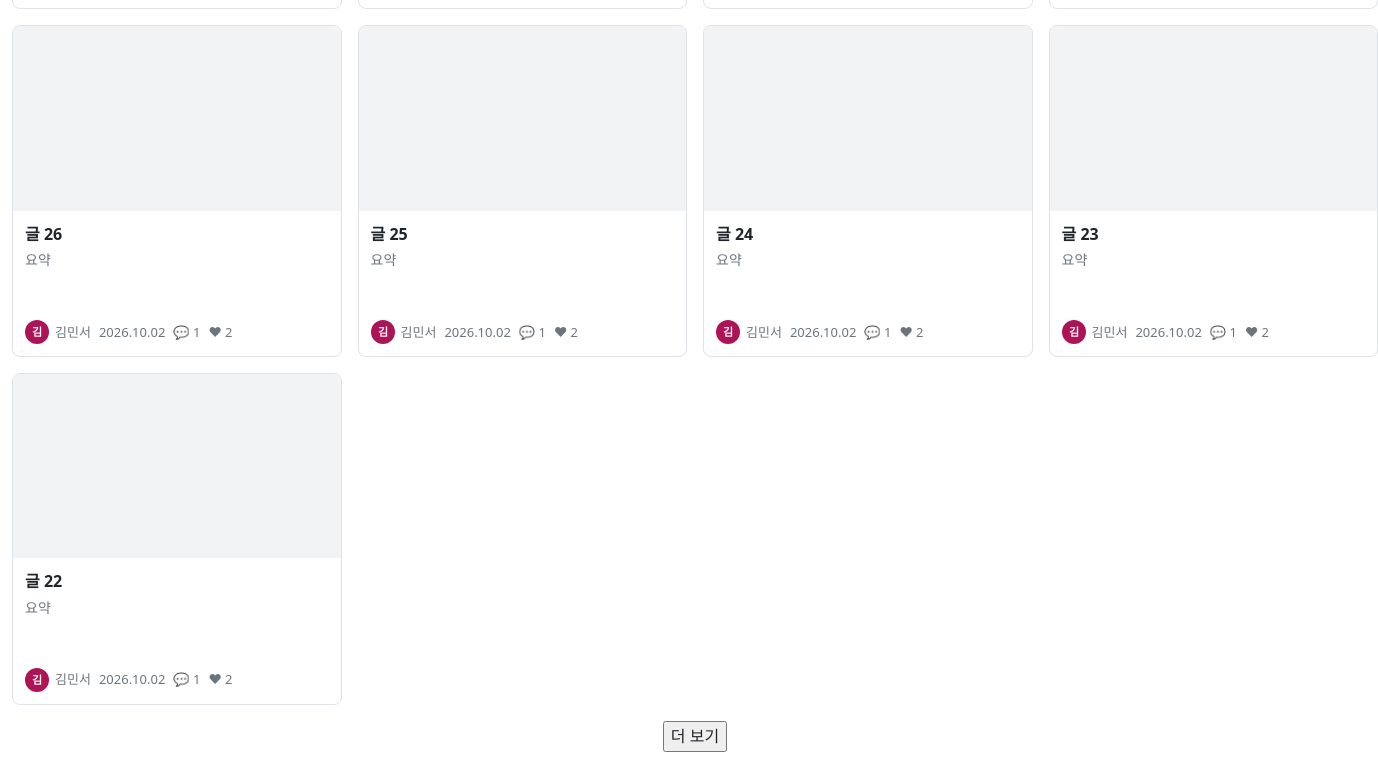
it: TrendingList › [더 보기]가 410이면 "순위가 새로 바뀌었어요" 후 처음부터 다시 부른다
This screenshot has width=1378, height=768.
(page scrolled)
Click the button "더 보기" at (695, 736), box top-left (663, 721), bottom-right (727, 752)
(page scrolled)
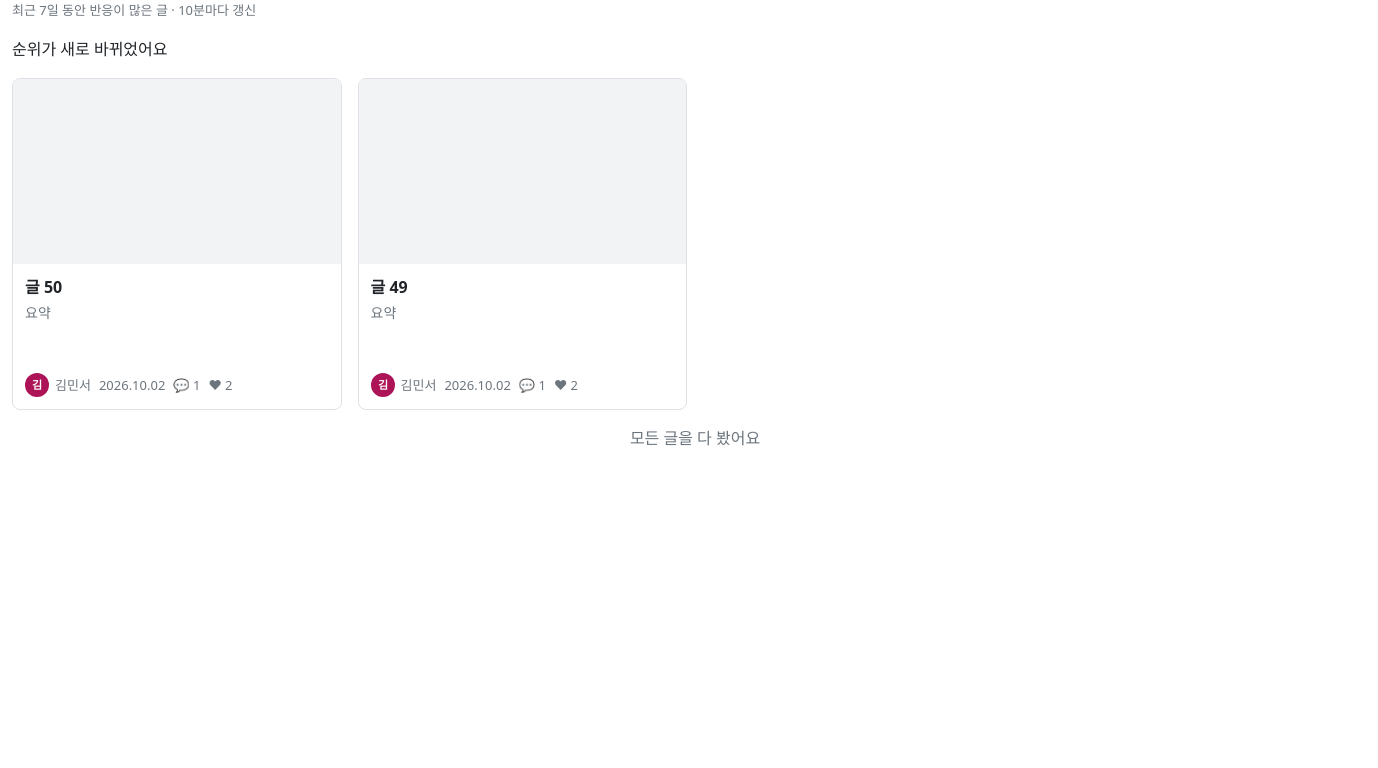
Check: the message with test id "trending-expired" reads "순위가 새로 바뀌었어요", box top-left (12, 38), bottom-right (168, 60)
Check: the number of elements with test id "post-card" is 2, box top-left (12, 78), bottom-right (342, 410); top-left (358, 78), bottom-right (687, 410)
Check: the elements with test id "card-title" read "글 50", "글 49", in this order, box top-left (25, 276), bottom-right (62, 298); top-left (370, 276), bottom-right (408, 298)
